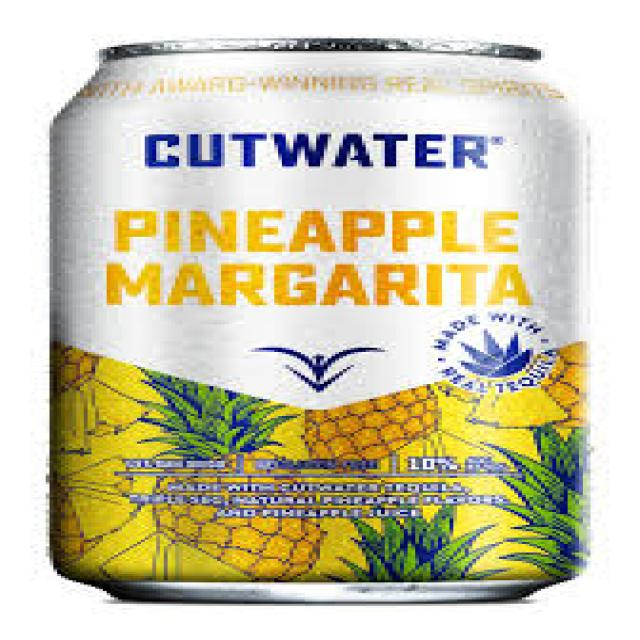Cans: (34, 26, 614, 612)
